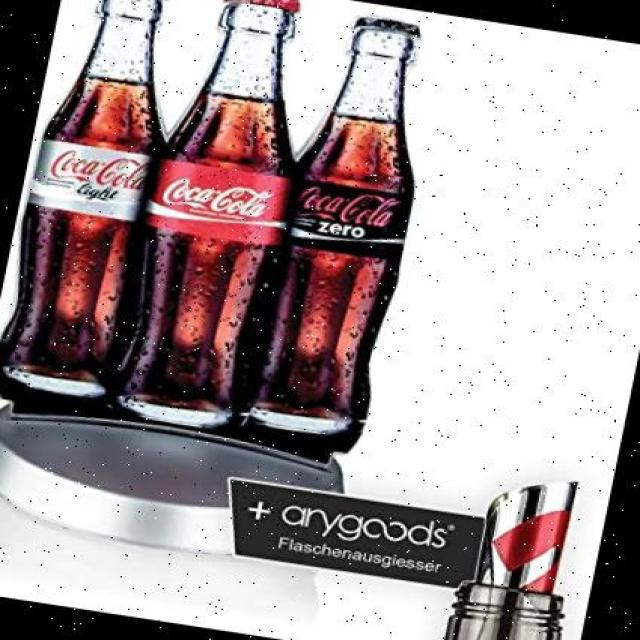coca-cola: (110, 0, 334, 437), (240, 0, 453, 456), (0, 0, 212, 423)
